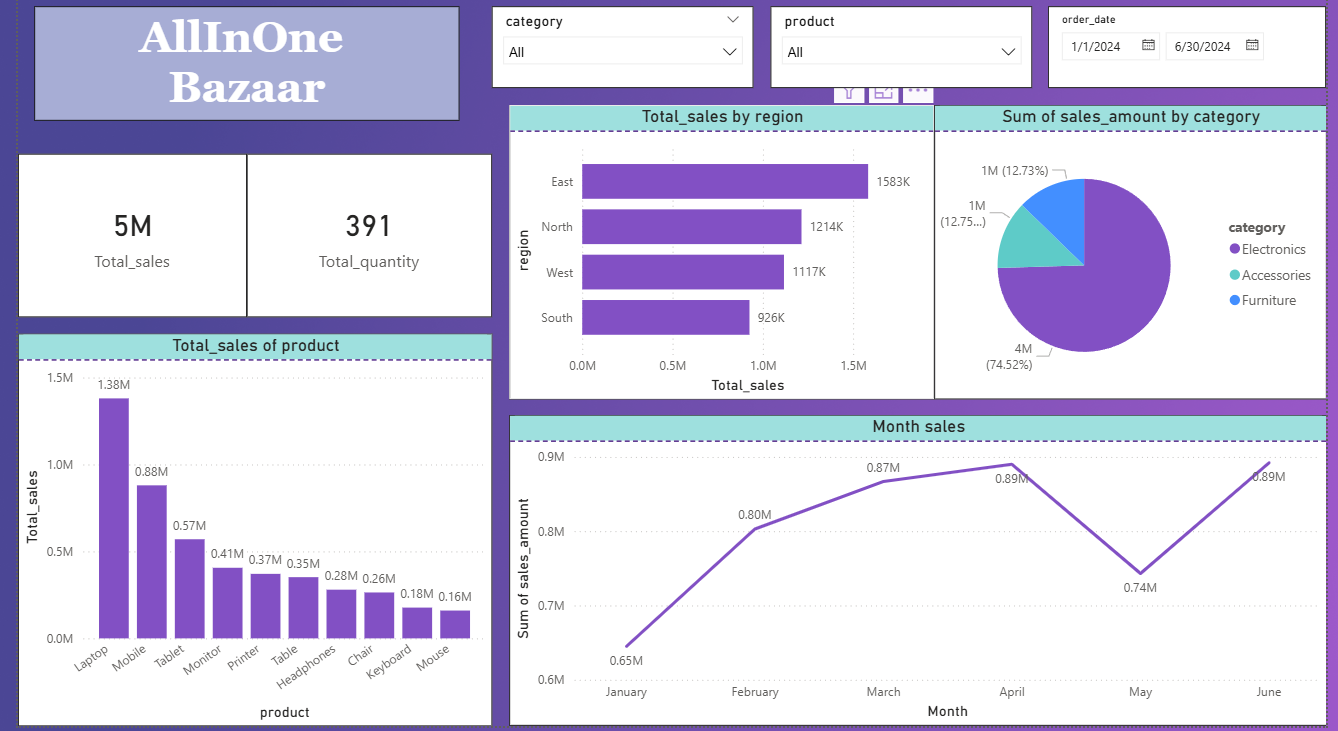

The page's visual inventory and layout, read from the dashboard file:
{"tool":"powerbi","page":{"name":"Page 1","canvas":[1280,720],"ordinal":0},"visuals":[{"type":"lineChart","title":"Month sales","fields":{"Category":["sales_db.order_date.Variation.Date Hierarchy.Month"],"Y":["Sum(sales_db.sales_amount)"]},"box":[480,416,800,304],"z":0},{"type":"barChart","fields":{"Category":["sales_db.region"],"Y":["sales_db.Total_sales"]},"box":[480,112,416,288],"z":1000},{"type":"columnChart","title":"Total_sales of product","fields":{"Category":["sales_db.product"],"Y":["sales_db.Total_sales"]},"box":[0,336,464,384],"z":2000},{"type":"slicer","fields":{"Values":["sales_db.category"]},"box":[464,16,256,80],"z":3000},{"type":"pieChart","fields":{"Category":["sales_db.category"],"Y":["Sum(sales_db.sales_amount)"]},"box":[896,112,384,288],"z":4000},{"type":"card","fields":{"Values":["sales_db.Total_quantity"]},"box":[224,160,240,160],"z":5000},{"type":"card","fields":{"Values":["sales_db.Total_sales"]},"box":[0,160,224,160],"z":6000},{"type":"textbox","box":[16,16,416,112],"z":7000},{"type":"slicer","fields":{"Values":["sales_db.order_date"]},"box":[1008,16,272,80],"z":8000},{"type":"slicer","fields":{"Values":["sales_db.product"]},"box":[736,16,256,80],"z":9000}]}

Visuals, with their boxes in screenshot pixels (x1, y1, x2, y2), scaled from the page's 1280x720 canvas onto the 1338x731 screenshot:
"Month sales" lineChart: [left=502, top=422, right=1337, bottom=730]
barChart - sales_db.region x sales_db.Total_sales: [left=502, top=114, right=937, bottom=406]
"Total_sales of product" columnChart: [left=0, top=341, right=485, bottom=730]
slicer - sales_db.category: [left=485, top=16, right=753, bottom=97]
pieChart - sales_db.category x Sum(sales_db.sales_amount): [left=937, top=114, right=1337, bottom=406]
card - sales_db.Total_quantity: [left=234, top=162, right=485, bottom=325]
card - sales_db.Total_sales: [left=0, top=162, right=234, bottom=325]
textbox: [left=17, top=16, right=452, bottom=130]
slicer - sales_db.order_date: [left=1054, top=16, right=1337, bottom=97]
slicer - sales_db.product: [left=769, top=16, right=1037, bottom=97]
